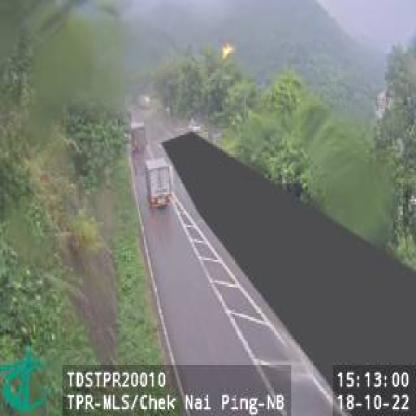Truck: (143, 156, 174, 212), (129, 120, 148, 156)
